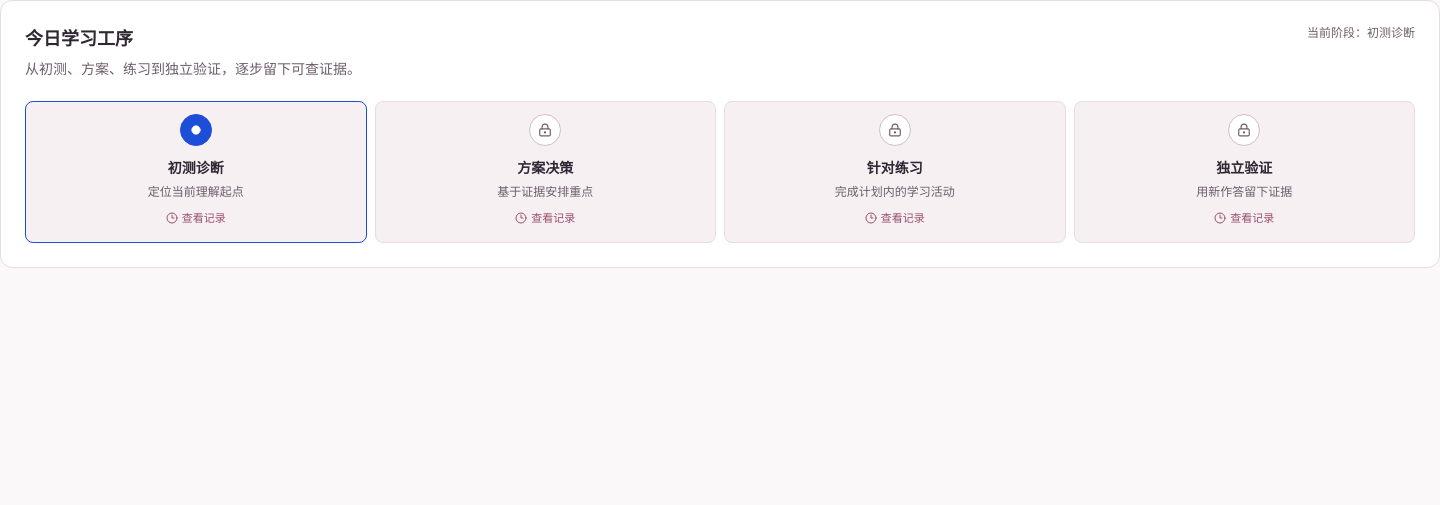
Test: TodaysJourney › opens the selected stage and shows its saved source payload
Click the button "独立验证 用新作答留下证据 查看记录" at (1244, 172), box left=1074, top=101, right=1415, bottom=243
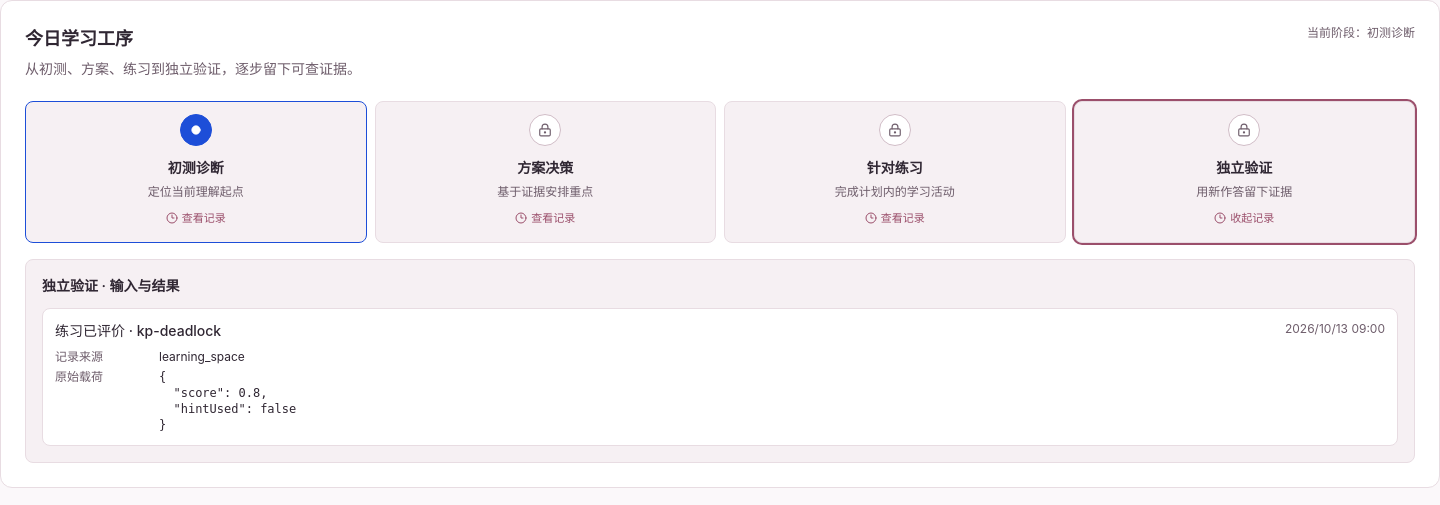
Now the element named "独立验证阶段记录" shows "\"score\": 0.8", box left=159, top=370, right=296, bottom=432
